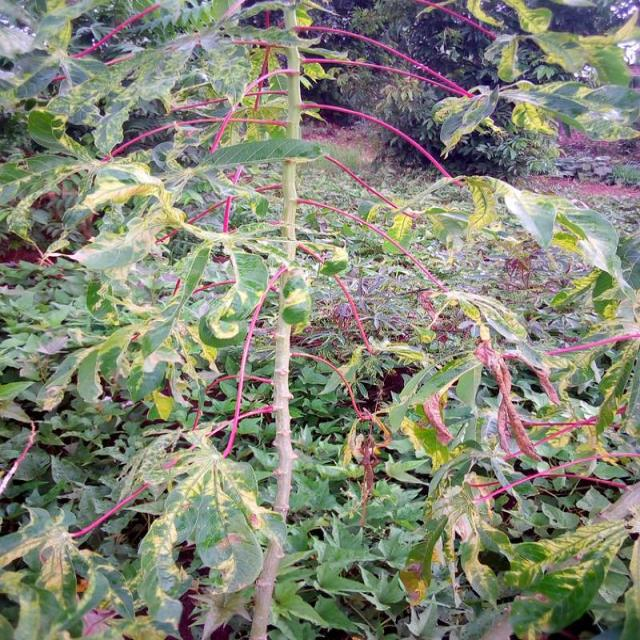cassava leaf: (0, 0, 638, 639), (136, 432, 282, 637)
